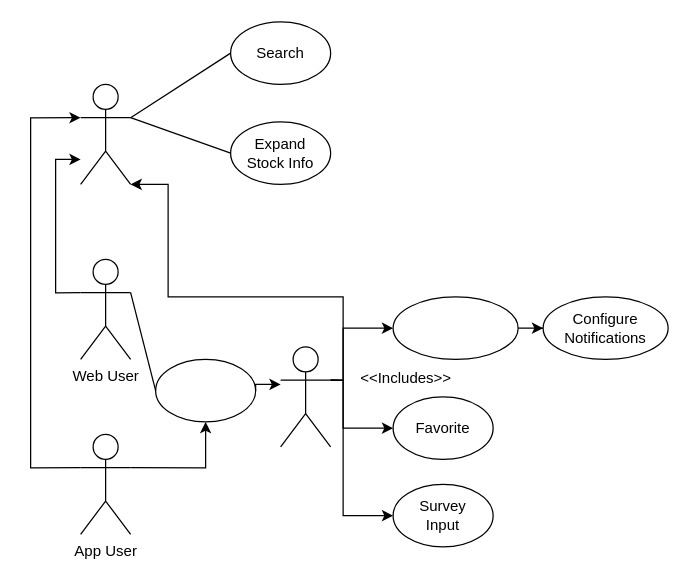
Some shapes in this 690 by 583 pixel diagram are drawn without their labels. The shapes that lost their labels are listed below. From the top down, each one's centre as x and y in pixels, then its label:
At (x=105, y=133): "Investor".
At (x=455, y=327): "Enable/Disable Notifications".
At (x=205, y=390): "Create Account".
At (x=305, y=396): "Account Linked".
